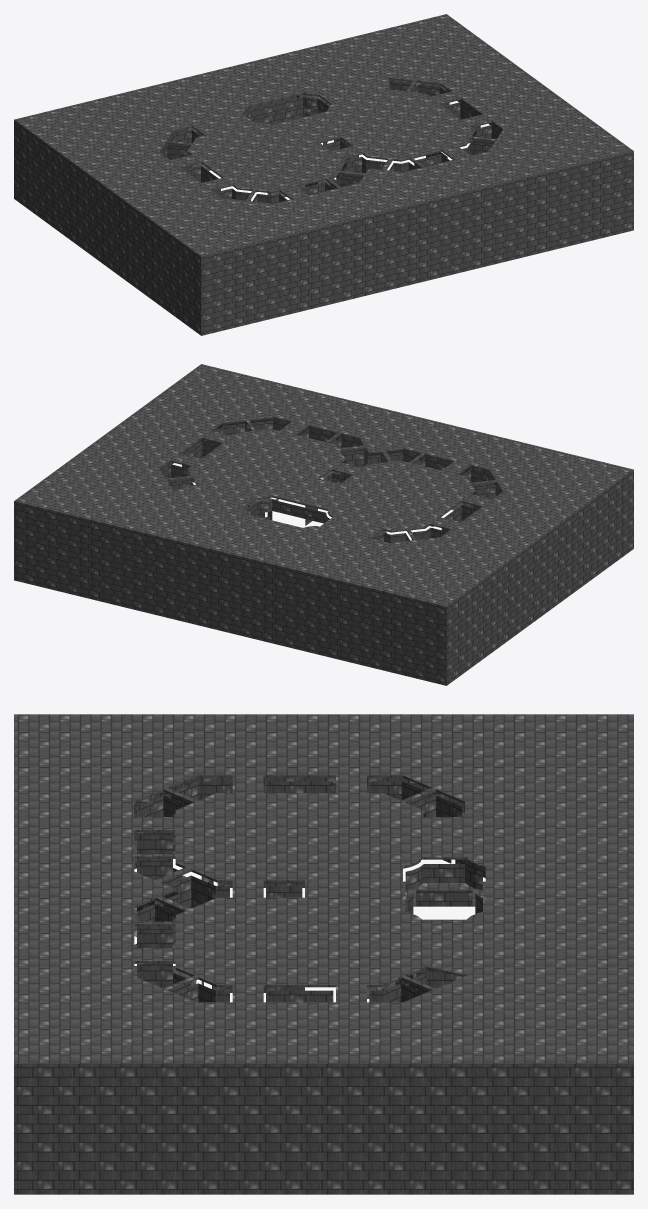
Rendered from DF_01_CONC2.fbx.
The picture shows the model from 3 angles, top to bottom: view 1: azimuth 30°, elevation 25°; view 2: azimuth 150°, elevation 25°; view 3: azimuth 270°, elevation 25°; orthographic projection. The views are drawn at different scales.
Parts seen in each view (by area): view 1: DF_01_CONC2; view 2: DF_01_CONC2; view 3: DF_01_CONC2.
Part boxes in pixels (x1=…): DF_01_CONC2: x1=14, y1=14, x2=633, y2=335; DF_01_CONC2: x1=14, y1=364, x2=633, y2=685; DF_01_CONC2: x1=14, y1=714, x2=633, y2=1194.
Bounding box in the file's own units: 80 × 14 × 60.
